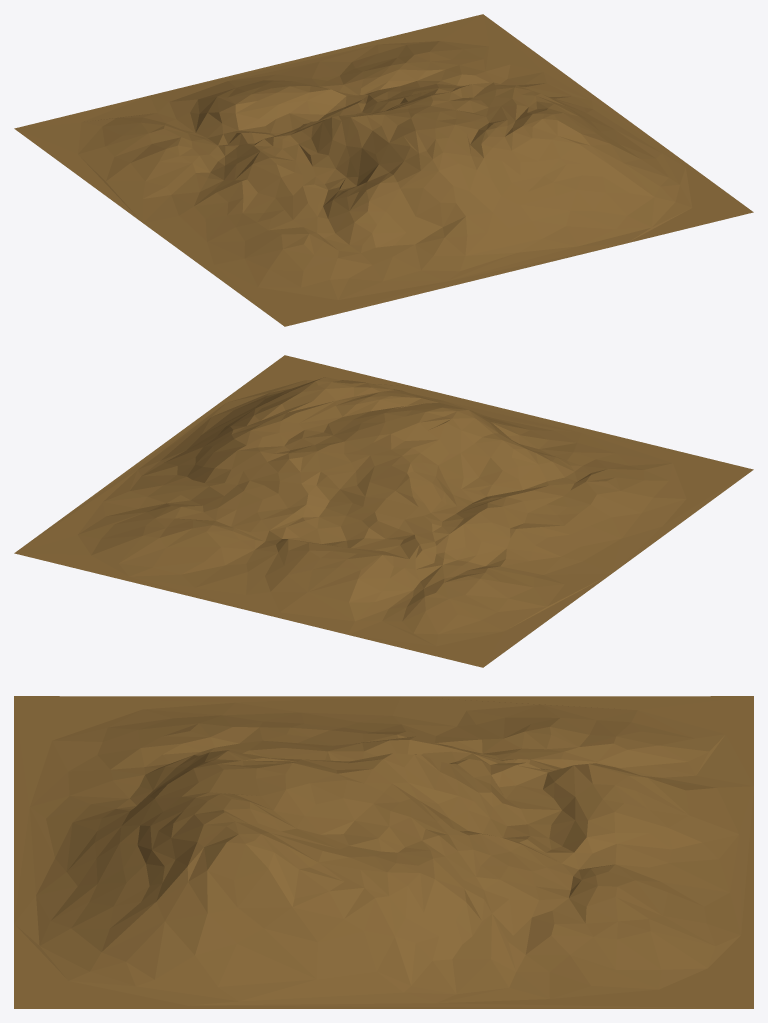
Rendered from Terrain_19.fbx.
3 renders of one model, top to bottom at view 1: azimuth 30°, elevation 25°; view 2: azimuth 150°, elevation 25°; view 3: azimuth 270°, elevation 25°, orthographic. The views are drawn at different scales.
Visible parts, largest first — view 1: Terrain_19; view 2: Terrain_19; view 3: Terrain_19.
Boxes of the visible parts, box(x1,y1,x2,y2) form: Terrain_19: box(14, 14, 753, 326); Terrain_19: box(14, 355, 753, 667); Terrain_19: box(14, 696, 753, 1008).
Size of the model in its own units: 20000 by 2650 by 20000.
